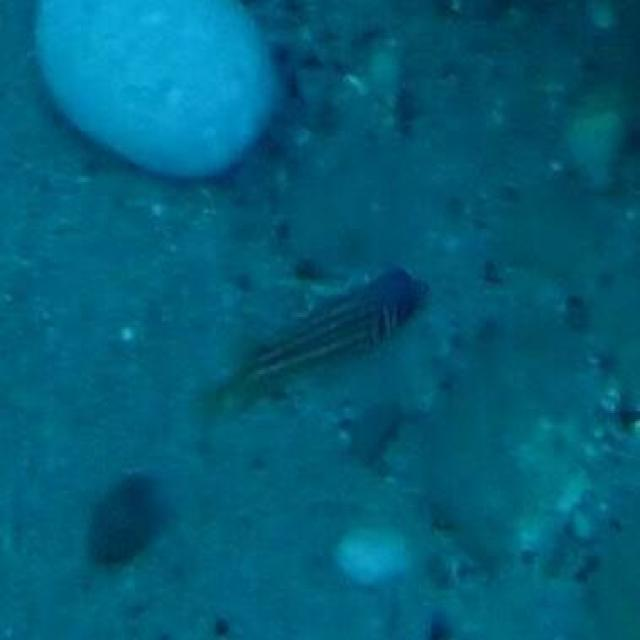Asker Baligi: (210, 258, 432, 421)
